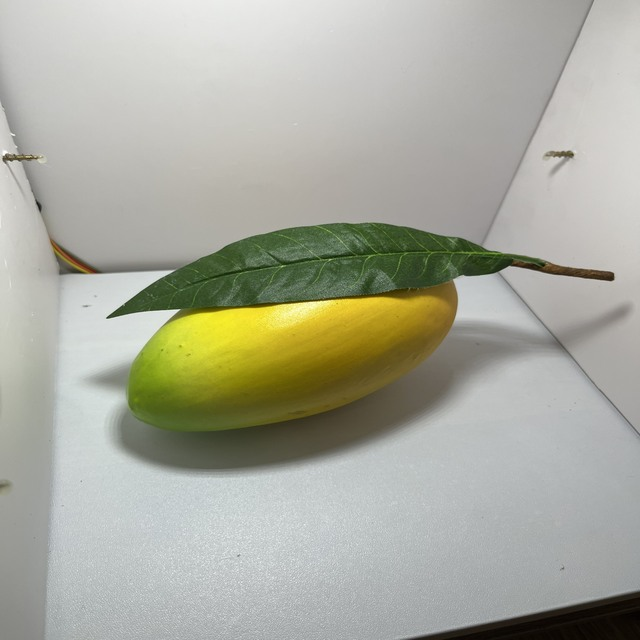Xoai: (84, 175, 484, 474)
